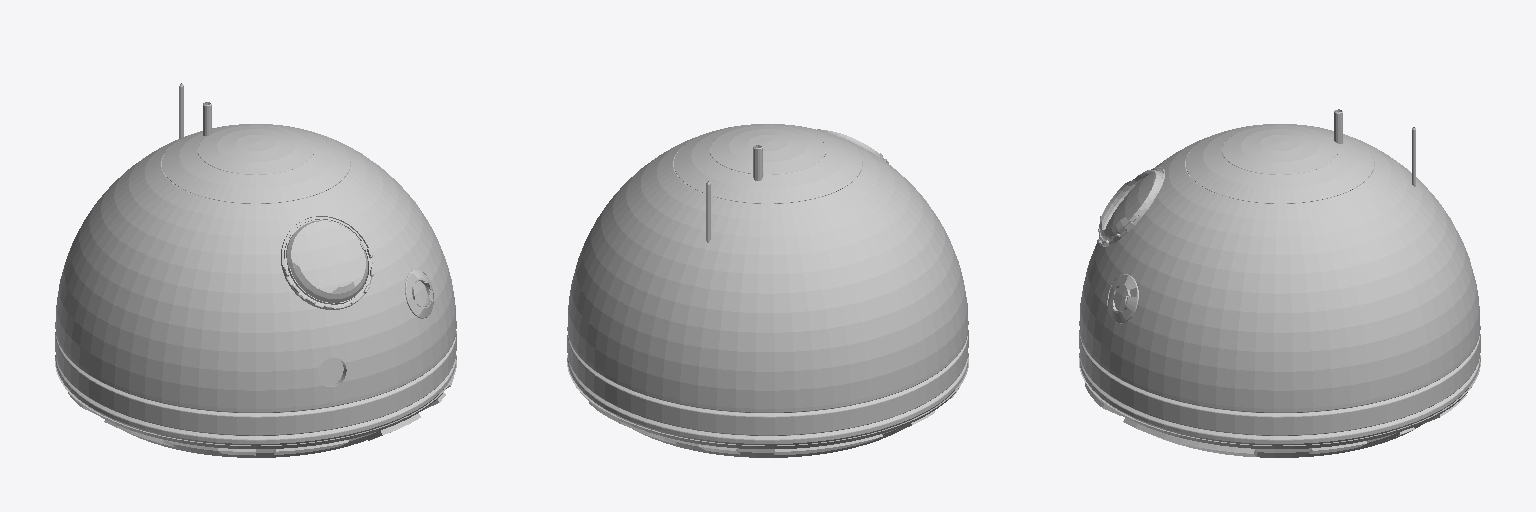
Rendered from Head_low.obj.
The picture shows the model from 3 angles: view 1: azimuth 30°, elevation 25°; view 2: azimuth 150°, elevation 25°; view 3: azimuth 270°, elevation 25°; orthographic projection.
Parts seen in each view (by area): view 1: Object004; view 2: Object004; view 3: Object004.
Part boxes in pixels (x1,y1,x2,y2): Object004: (55,83,456,457); Object004: (567,124,968,457); Object004: (1079,109,1480,457).
Size of the model in its own units: 5.58 by 4.15 by 5.58.